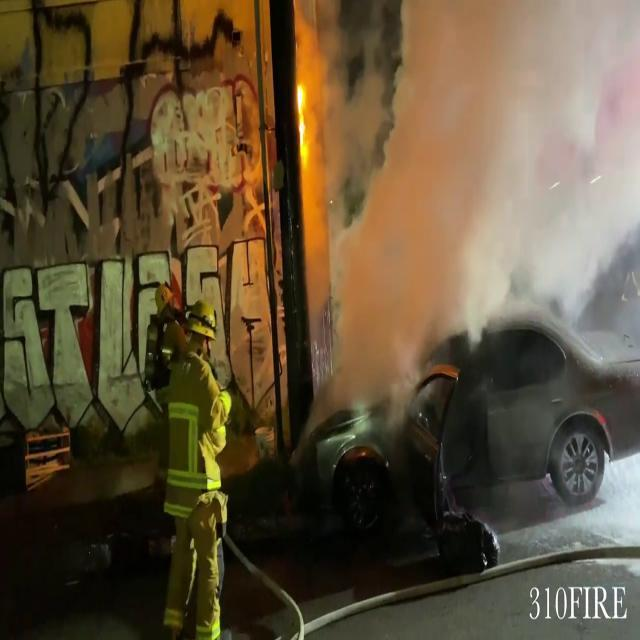Smoke: (305, 0, 640, 372)
